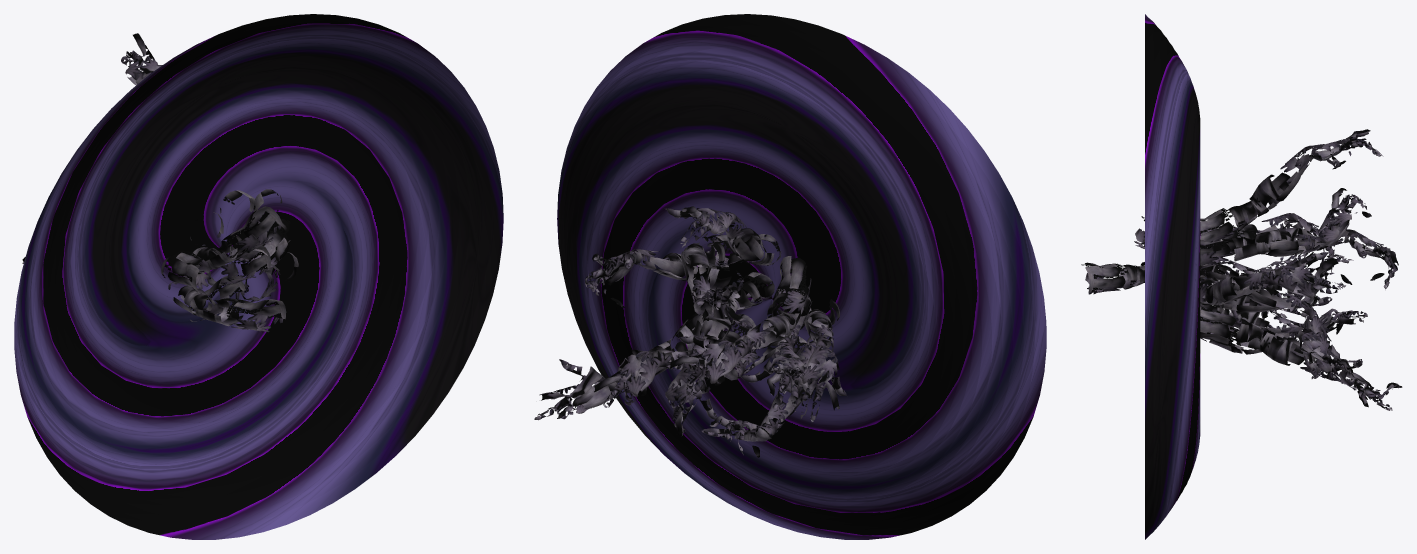
Rendered from hand_monster.obj.
3 views of the same model, side by side, from view 1: azimuth 30°, elevation 25°; view 2: azimuth 150°, elevation 25°; view 3: azimuth 270°, elevation 25° (orthographic). The views are drawn at different scales.
Parts seen in each view (by area): view 1: vortex_Plane.002, arm_lowres.007_Cube.009, arm_lowres.004_Cube.005, arm_lowres.010_Cube.012, arm_lowres.001_Cube.002, arm_lowres.009_Cube.011, arm_lowres_Cube.003, arm_lowres.002_Cube.004; view 2: vortex_Plane.002, arm_lowres.005_Cube.006, arm_lowres.008_Cube.010, arm_lowres.006_Cube.007, arm_lowres.013_Cube.001, arm_lowres.010_Cube.012, arm_lowres_Cube.003, arm_lowres.001_Cube.002, arm_lowres.011_Cube.008, arm_lowres.002_Cube.004, arm_lowres.004_Cube.005, arm_lowres.009_Cube.011 (+1 smaller); view 3: vortex_Plane.002, arm_lowres.006_Cube.007, arm_lowres.001_Cube.002, arm_lowres.013_Cube.001, arm_lowres_Cube.003, arm_lowres.008_Cube.010, arm_lowres.005_Cube.006, arm_lowres.007_Cube.009, arm_lowres.011_Cube.008, arm_lowres.002_Cube.004, arm_lowres.009_Cube.011, arm_lowres.004_Cube.005 (+1 smaller).
Part boxes in pixels (left/top/right/bottom): vortex_Plane.002: left=14, top=14, right=503, bottom=539; arm_lowres.007_Cube.009: left=168, top=282, right=286, bottom=332; arm_lowres.004_Cube.005: left=192, top=206, right=282, bottom=272; arm_lowres.010_Cube.012: left=22, top=250, right=211, bottom=293; arm_lowres.001_Cube.002: left=121, top=33, right=255, bottom=213; arm_lowres.009_Cube.011: left=207, top=244, right=270, bottom=285; arm_lowres_Cube.003: left=250, top=219, right=290, bottom=269; arm_lowres.002_Cube.004: left=189, top=275, right=245, bottom=321; vortex_Plane.002: left=557, top=14, right=1046, bottom=539; arm_lowres.005_Cube.006: left=670, top=256, right=811, bottom=397; arm_lowres.008_Cube.010: left=665, top=272, right=774, bottom=435; arm_lowres.006_Cube.007: left=534, top=294, right=731, bottom=420; arm_lowres.013_Cube.001: left=681, top=234, right=752, bottom=328; arm_lowres.010_Cube.012: left=799, top=299, right=847, bottom=422; arm_lowres_Cube.003: left=585, top=249, right=743, bottom=307; arm_lowres.001_Cube.002: left=664, top=206, right=781, bottom=265; arm_lowres.011_Cube.008: left=594, top=314, right=755, bottom=407; arm_lowres.002_Cube.004: left=701, top=335, right=810, bottom=457; arm_lowres.004_Cube.005: left=738, top=295, right=811, bottom=382; arm_lowres.009_Cube.011: left=676, top=303, right=788, bottom=385; vortex_Plane.002: left=1145, top=14, right=1200, bottom=539; arm_lowres.006_Cube.007: left=1200, top=306, right=1402, bottom=410; arm_lowres.001_Cube.002: left=1200, top=129, right=1383, bottom=248; arm_lowres.013_Cube.001: left=1200, top=188, right=1371, bottom=268; arm_lowres_Cube.003: left=1200, top=252, right=1345, bottom=305; arm_lowres.008_Cube.010: left=1200, top=264, right=1339, bottom=378; arm_lowres.005_Cube.006: left=1200, top=225, right=1398, bottom=289; arm_lowres.007_Cube.009: left=1081, top=262, right=1286, bottom=327; arm_lowres.011_Cube.008: left=1200, top=317, right=1353, bottom=384; arm_lowres.002_Cube.004: left=1200, top=302, right=1367, bottom=340; arm_lowres.009_Cube.011: left=1201, top=254, right=1353, bottom=312; arm_lowres.004_Cube.005: left=1134, top=216, right=1313, bottom=295.
Bounding box in the file's own units: 2.02 × 2.02 × 1.26.
